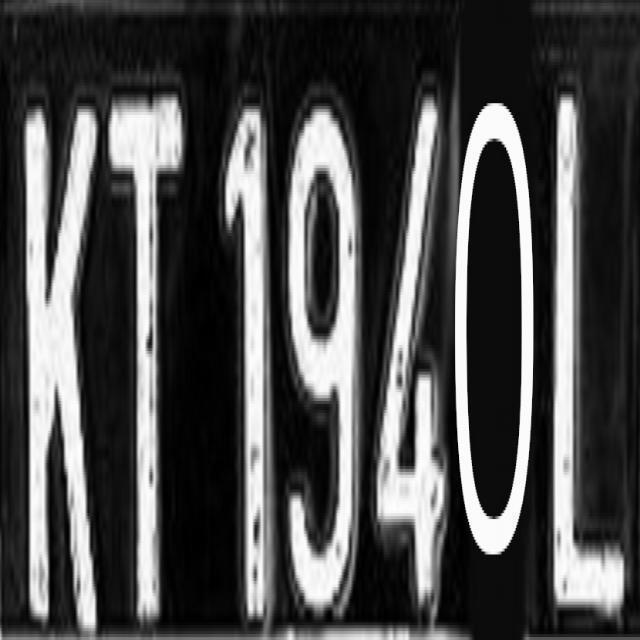0: (453, 85, 539, 568)
1: (216, 90, 274, 640)
4: (365, 85, 450, 640)
9: (280, 83, 358, 618)
K: (6, 93, 102, 638)
L: (540, 83, 640, 634)
T: (108, 83, 205, 640)
